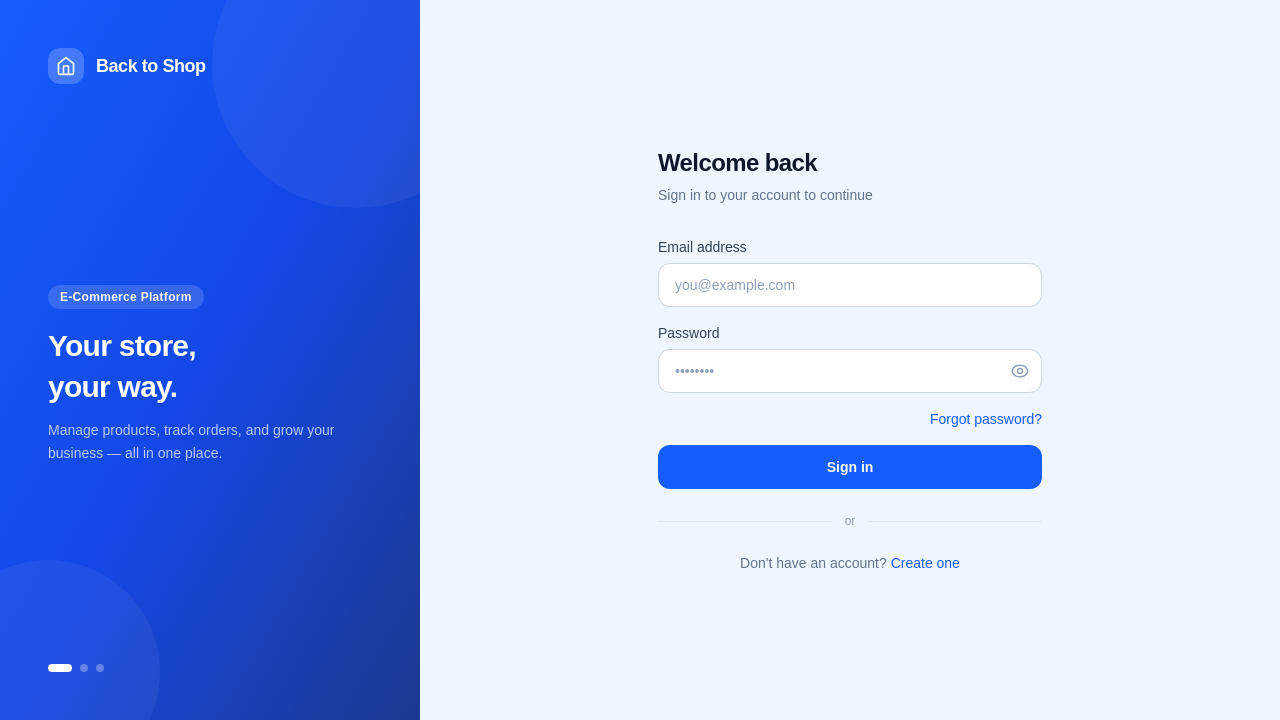
Test case: LoginPage — failed login › clears the error message on the next submit attempt
This screenshot has width=1280, height=720.
Type "user@example.com" into the field with placeholder "you@example.com" at (850, 285), box [658, 263, 1042, 307]
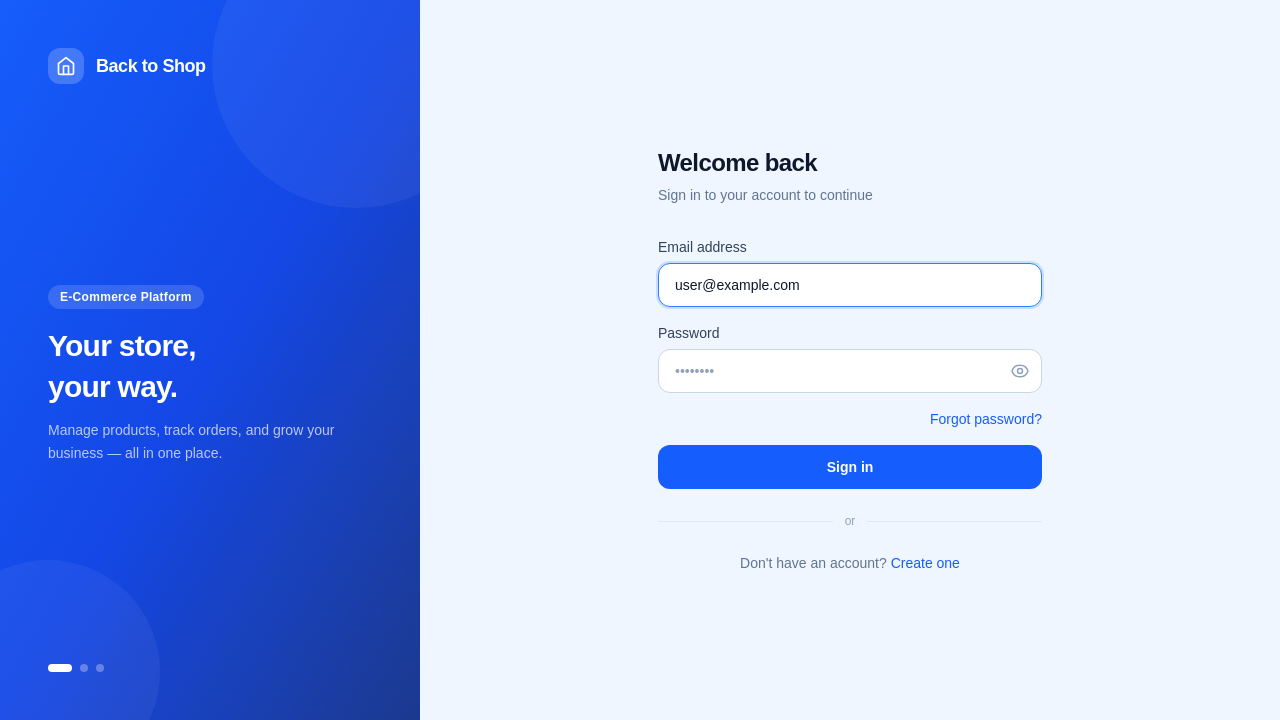
Type "password123" into the password field with placeholder "••••••••" at (850, 371), box [658, 349, 1042, 393]
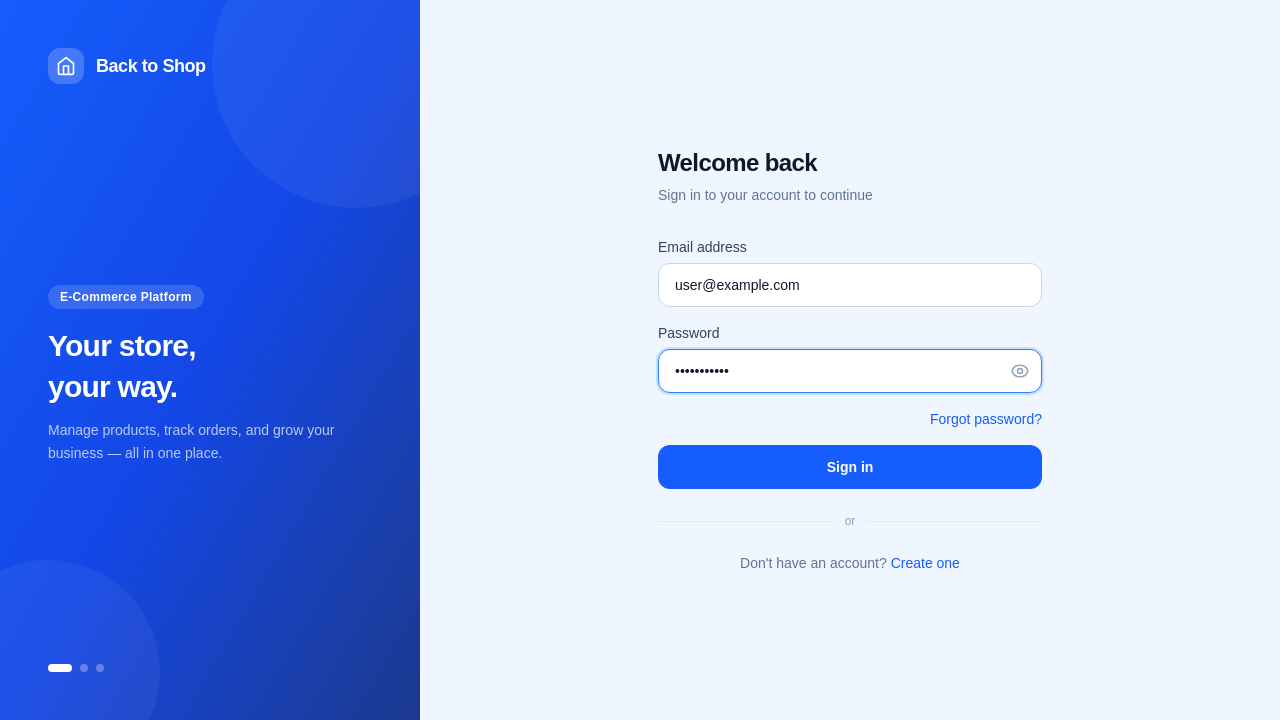
Click the button "Sign in" at (850, 467), box [658, 445, 1042, 489]
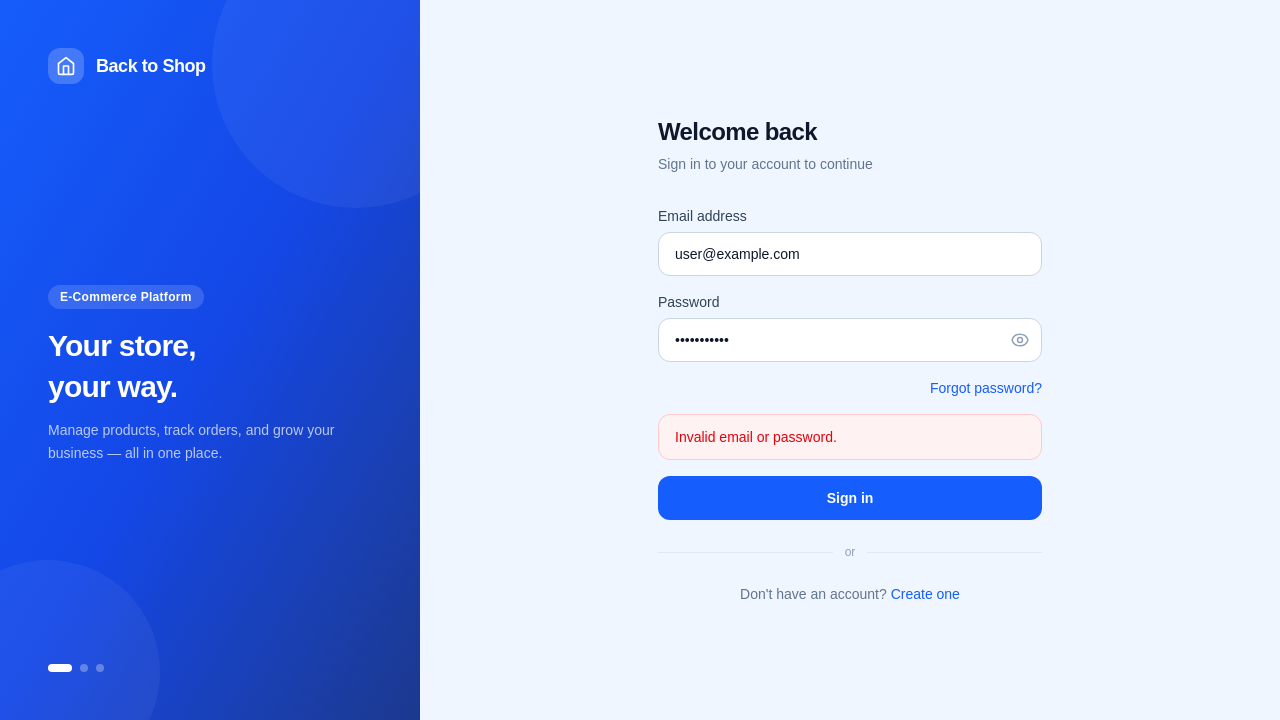
Expected: the text "Invalid email or password." is shown, [658, 414, 1042, 460]
Click the button "Sign in" at (850, 498), box [658, 476, 1042, 520]
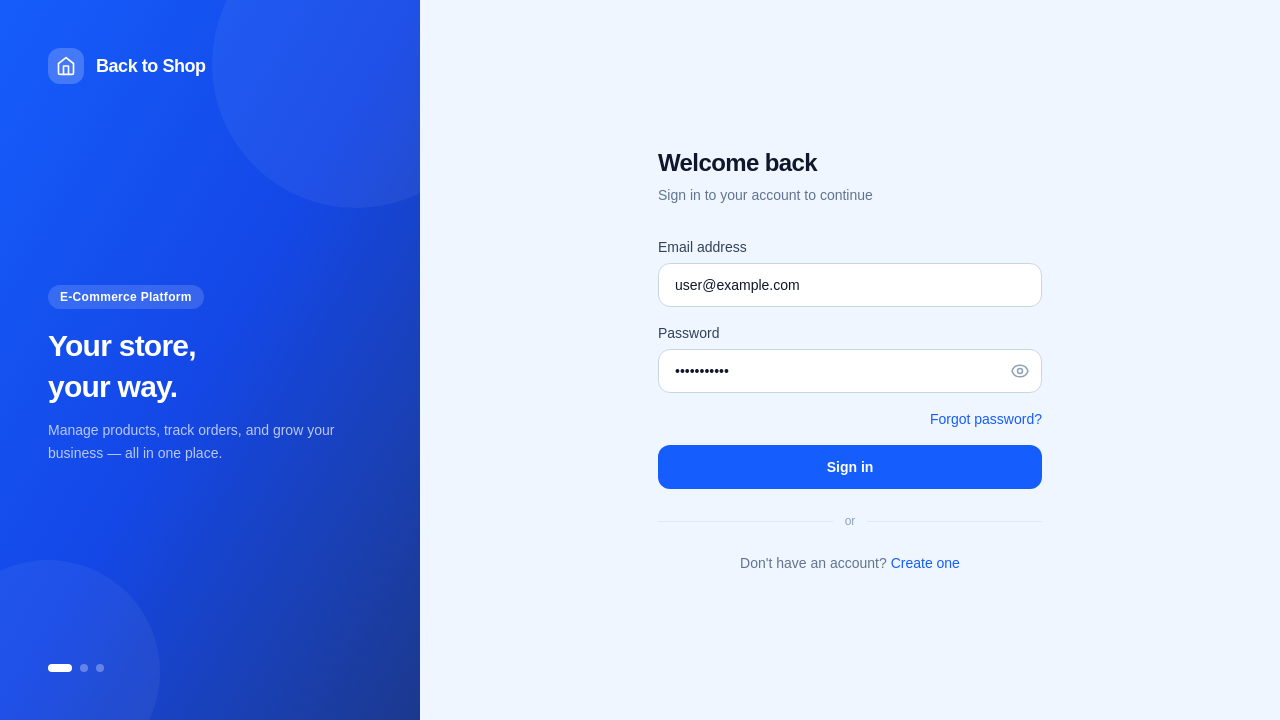
Expected: the text "Invalid email or password" is gone
